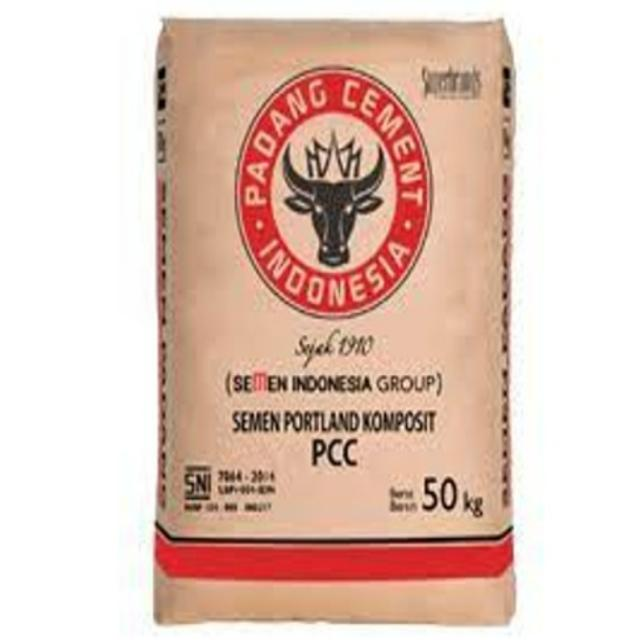KantongSemen: (151, 15, 518, 626)
